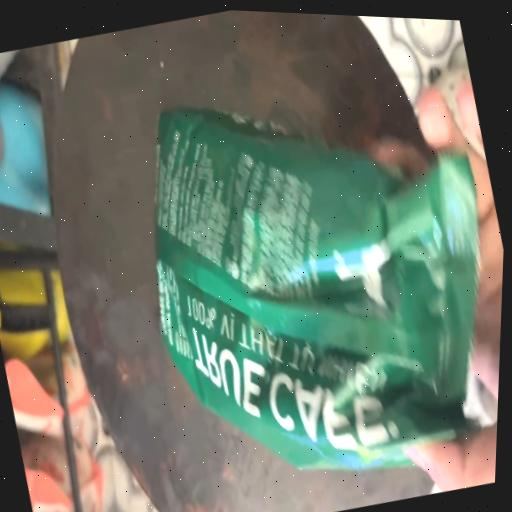cafe_xay: (155, 107, 479, 468)
